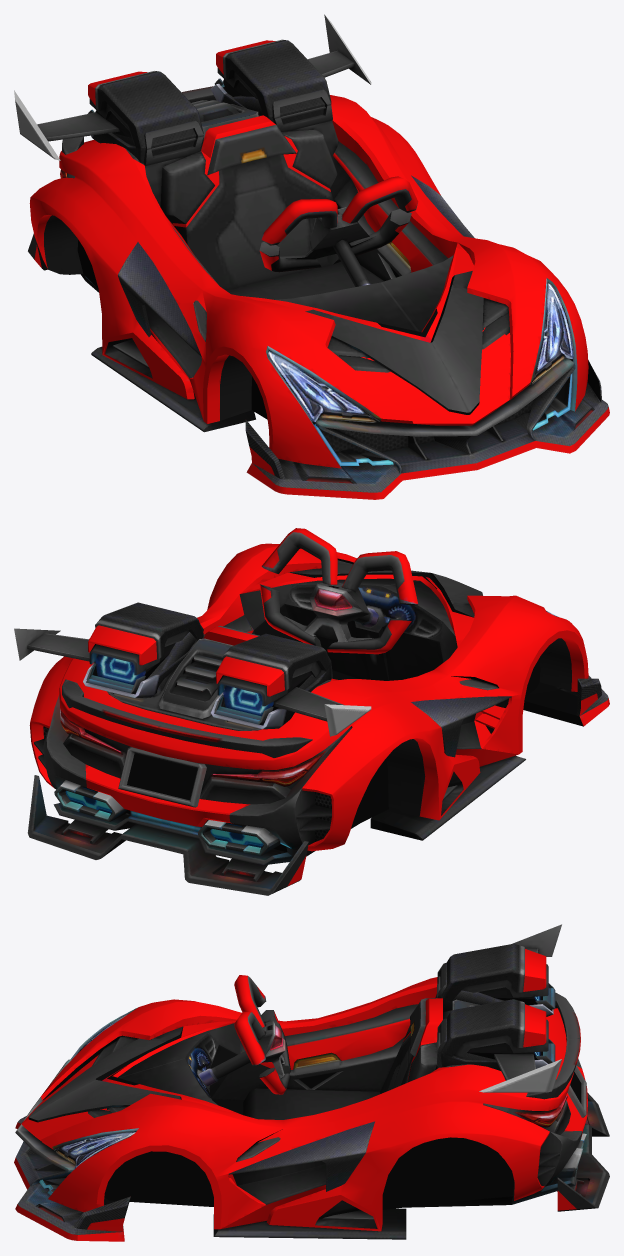
The model's file is body.fbx.
3 views of the same model, one above another, from view 1: azimuth 30°, elevation 25°; view 2: azimuth 150°, elevation 25°; view 3: azimuth 270°, elevation 25° (orthographic). The views are drawn at different scales.
Parts seen in each view (by area): view 1: r_0139.002; view 2: r_0139.002; view 3: r_0139.002.
Boxes of the visible parts, bbox=[...] form: r_0139.002: bbox=[14, 14, 609, 499]; r_0139.002: bbox=[14, 528, 609, 895]; r_0139.002: bbox=[14, 924, 609, 1241].
Size of the model in its own units: 125 by 76.27 by 213.
Materials: 1 (1 with a texture image).
